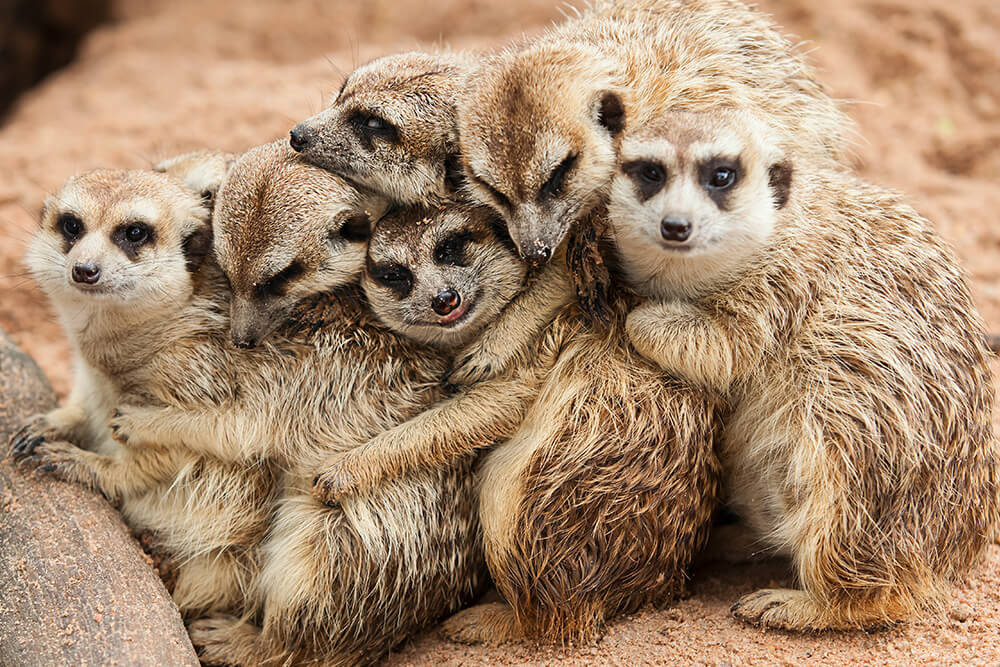meerkat: (626, 114, 1000, 615)
